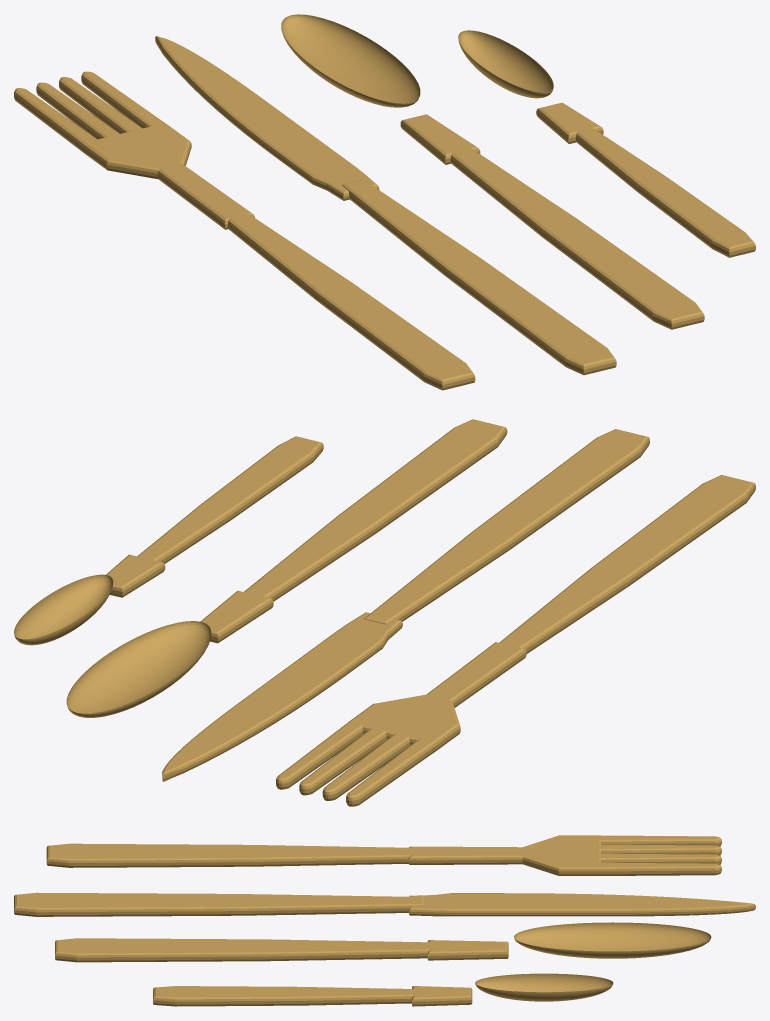
File: CUB-21.glb
3 renders of one model, top to bottom at view 1: azimuth 30°, elevation 25°; view 2: azimuth 150°, elevation 25°; view 3: azimuth 270°, elevation 25°, orthographic. The views are drawn at different scales.
Bounding box in the file's own units: 0.1208 × 0.006 × 0.227.
